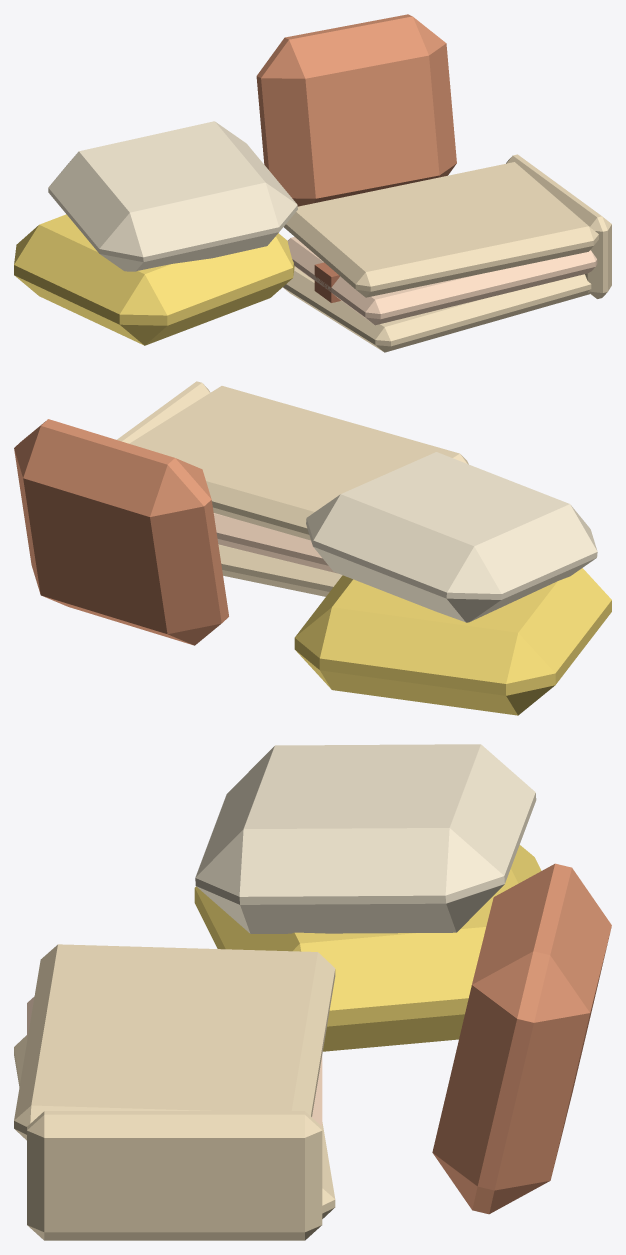
The model's file is prop_cushion_blanket_01.glb.
3 renders of one model, top to bottom at view 1: azimuth 30°, elevation 25°; view 2: azimuth 150°, elevation 25°; view 3: azimuth 270°, elevation 25°, orthographic. The views are drawn at different scales.
Parts seen in each view (by area): view 1: prop_cushion_blanket_01_body; view 2: prop_cushion_blanket_01_body; view 3: prop_cushion_blanket_01_body.
Part boxes in pixels (<box>): prop_cushion_blanket_01_body: <box>14,14,611,352</box>; prop_cushion_blanket_01_body: <box>14,381,611,715</box>; prop_cushion_blanket_01_body: <box>14,744,611,1240</box>.
Bounding box in the file's own units: 0.9395 × 0.3384 × 0.6883.
